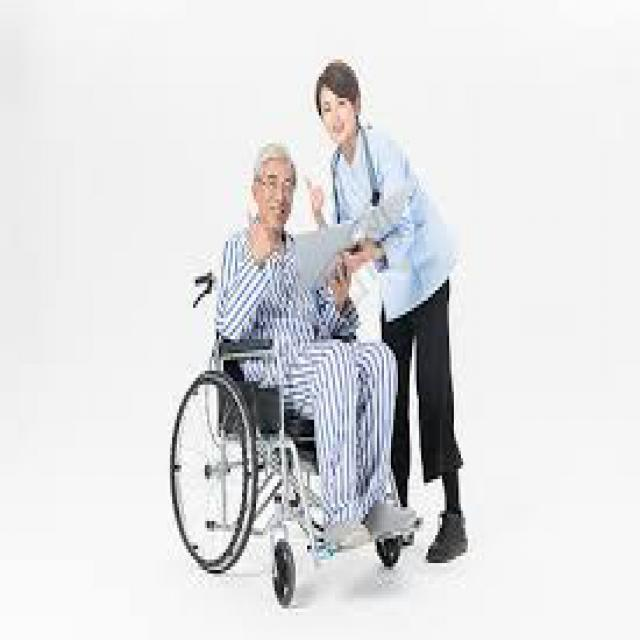wheelchairs: (170, 262, 422, 612)
